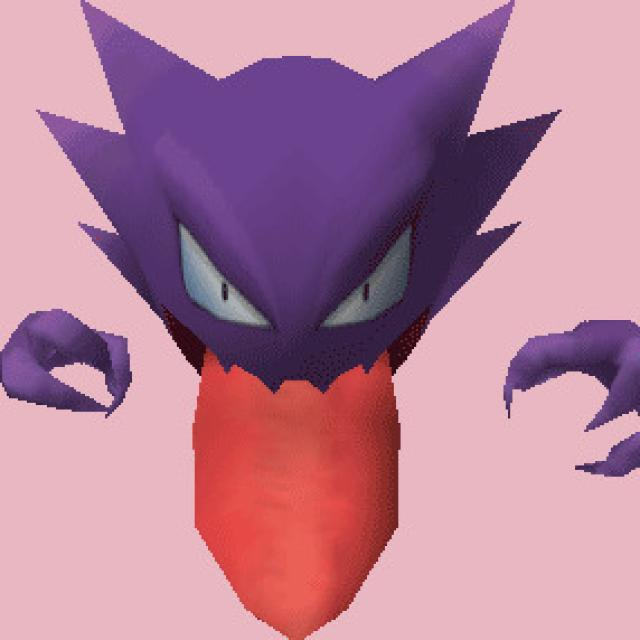Haunter: (16, 1, 628, 463)
